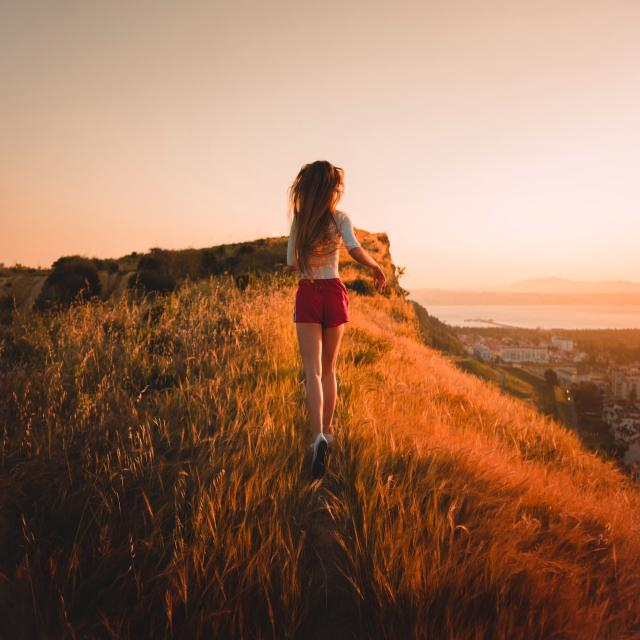adult: (285, 159, 387, 475)
